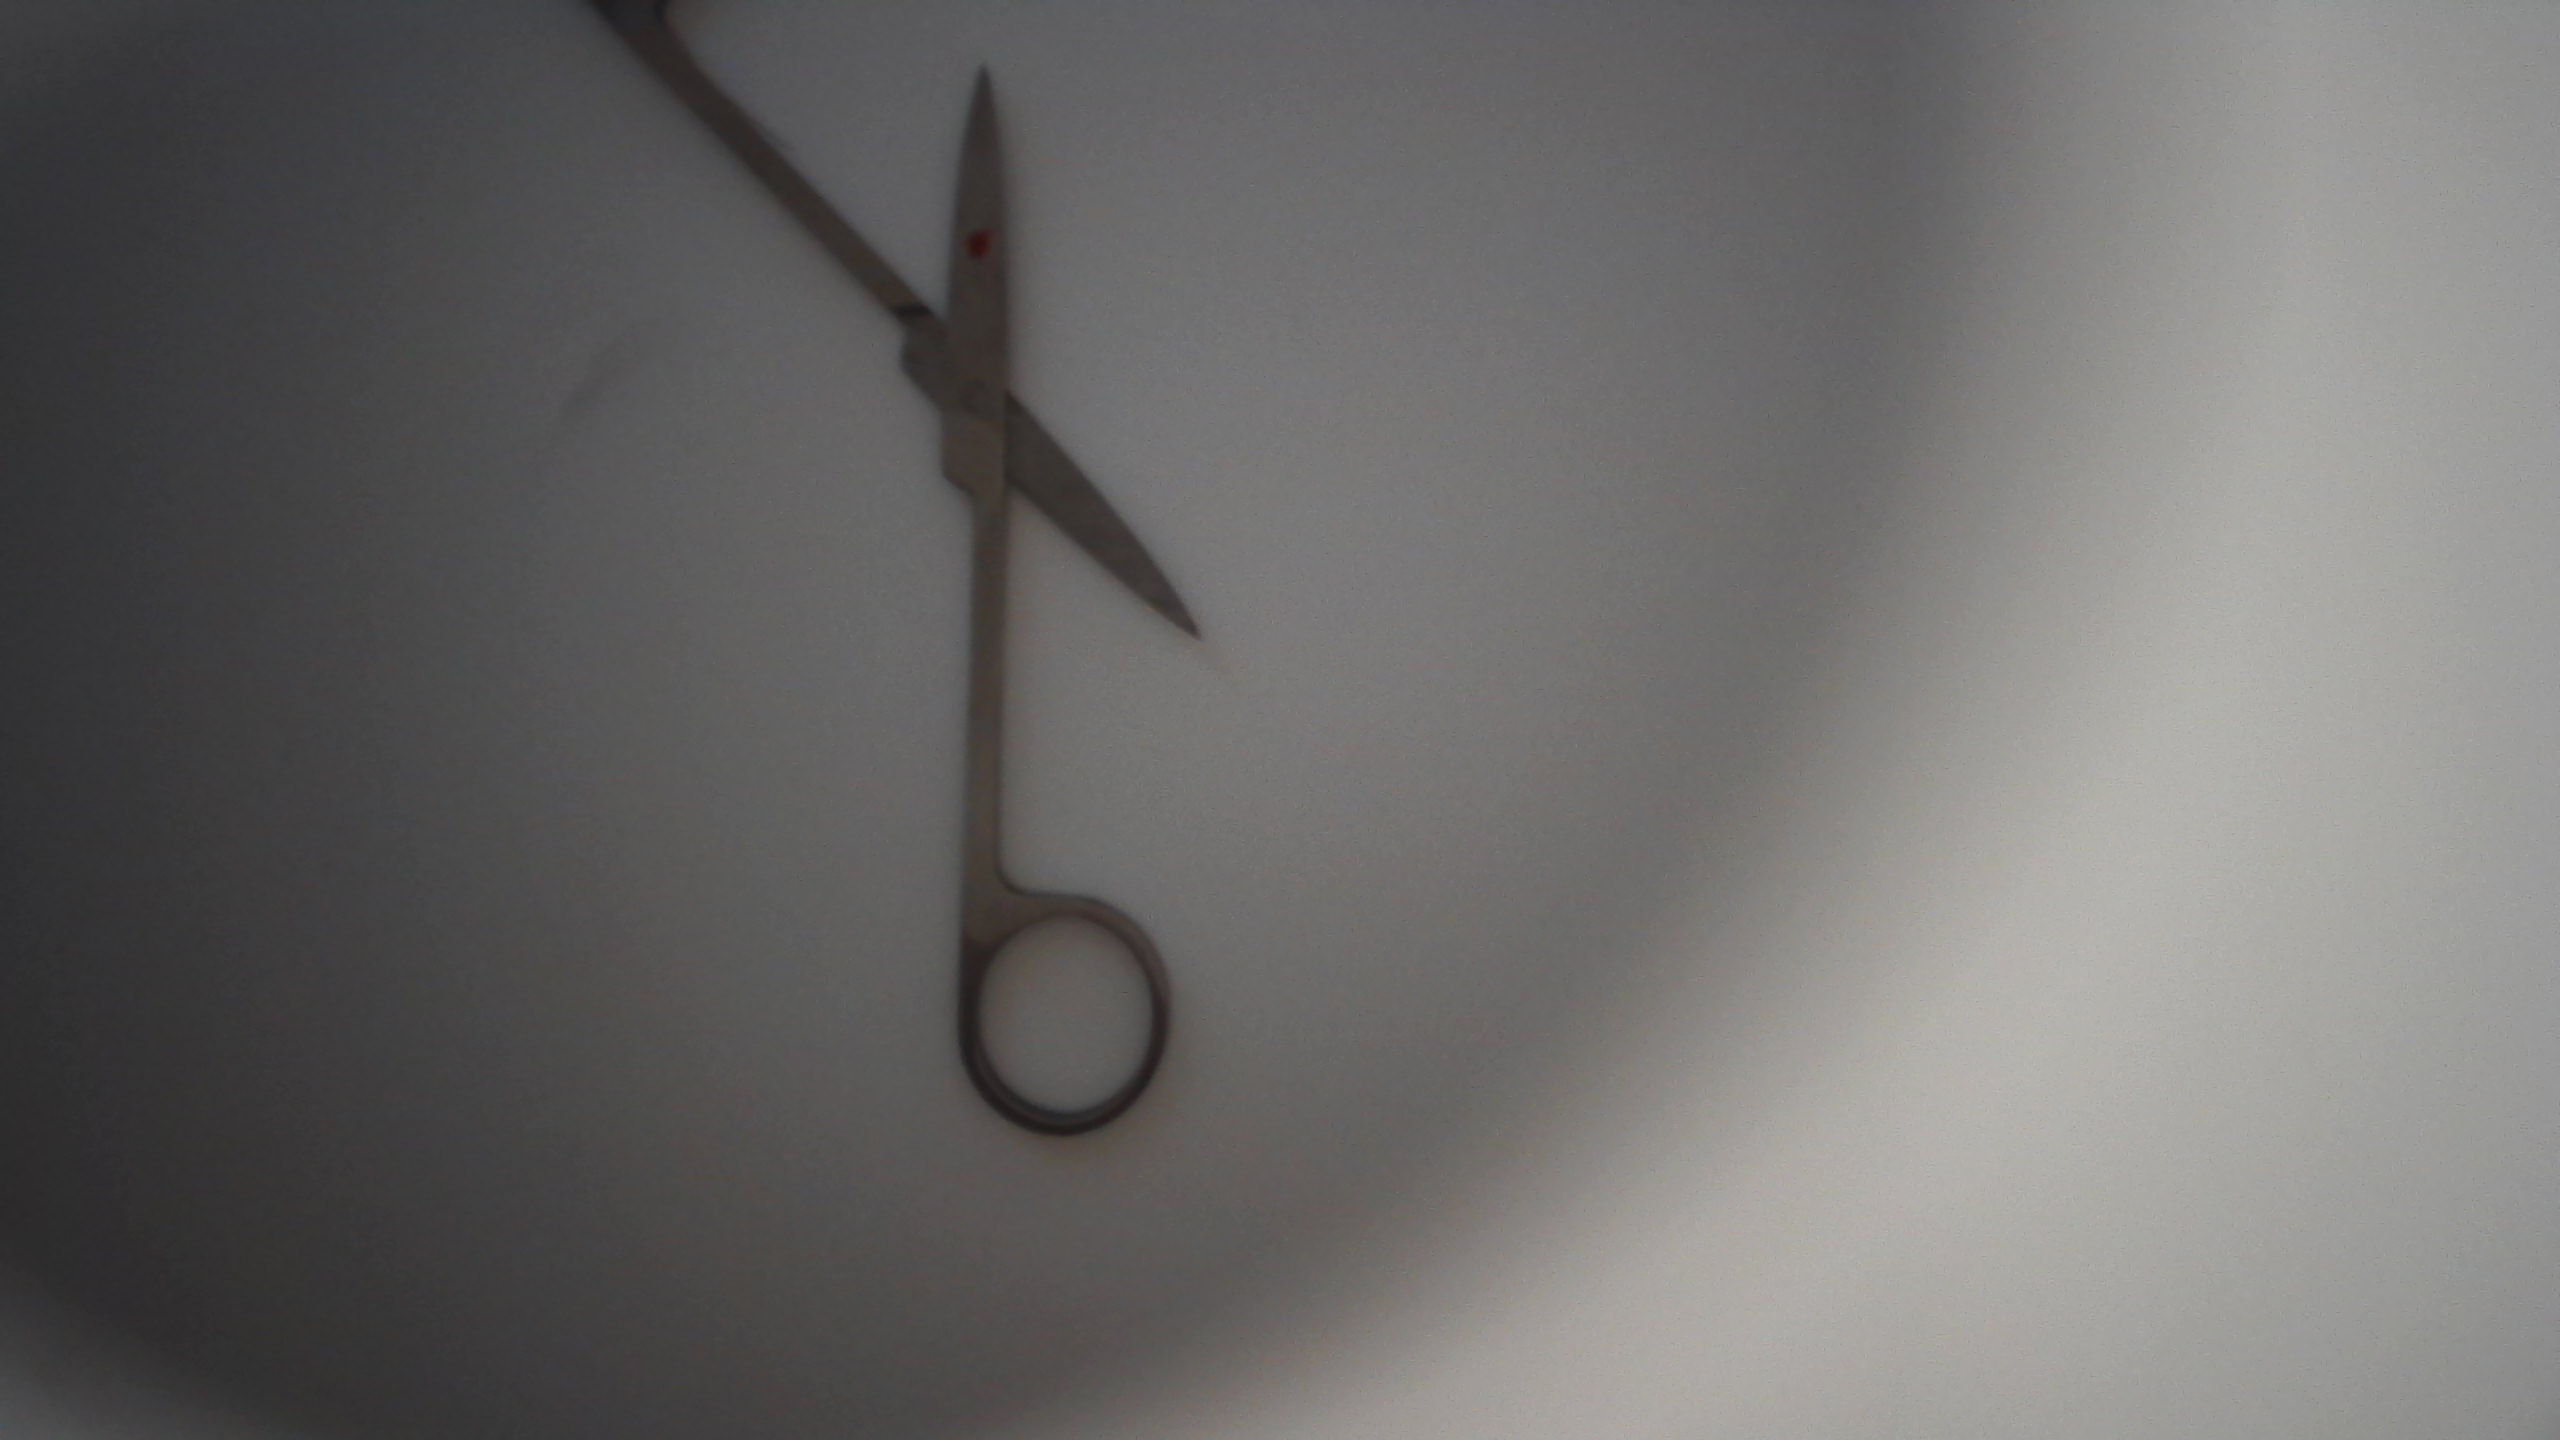Stain: (955, 221, 997, 261)
